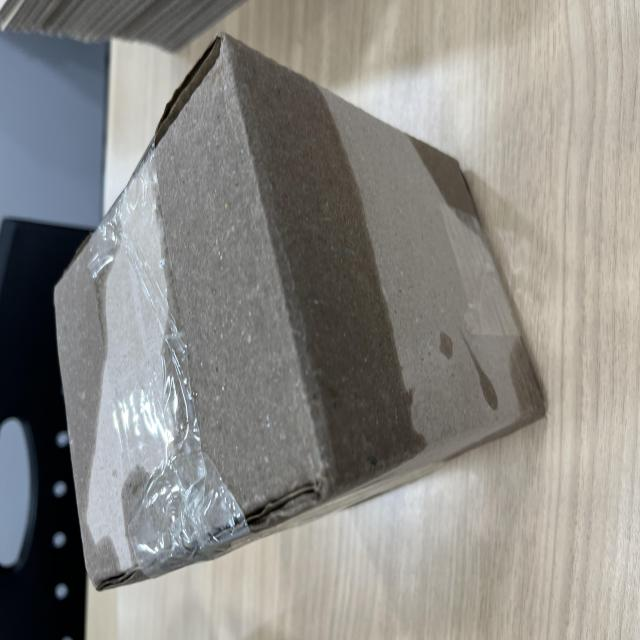wet: (32, 66, 451, 640)
